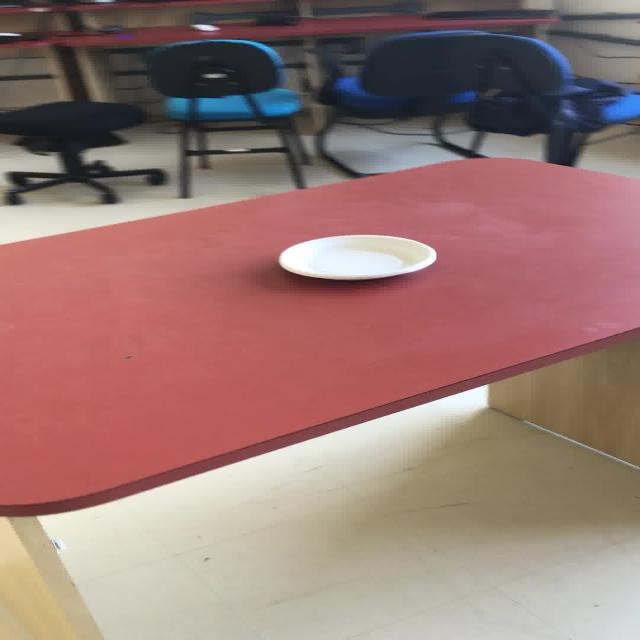plate: (276, 233, 436, 281)
